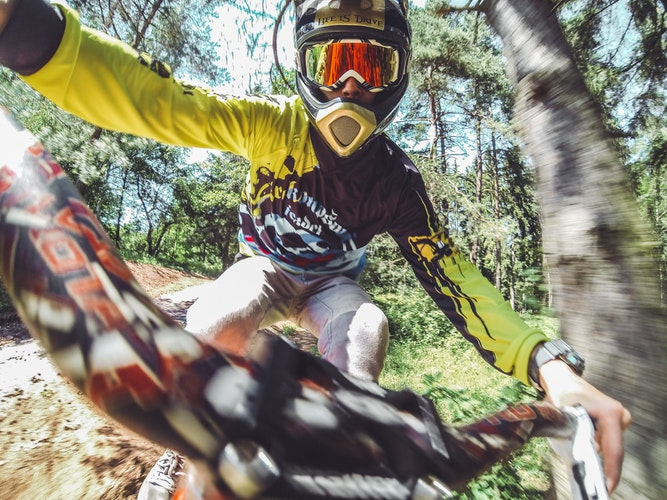helmet: (288, 4, 417, 152)
